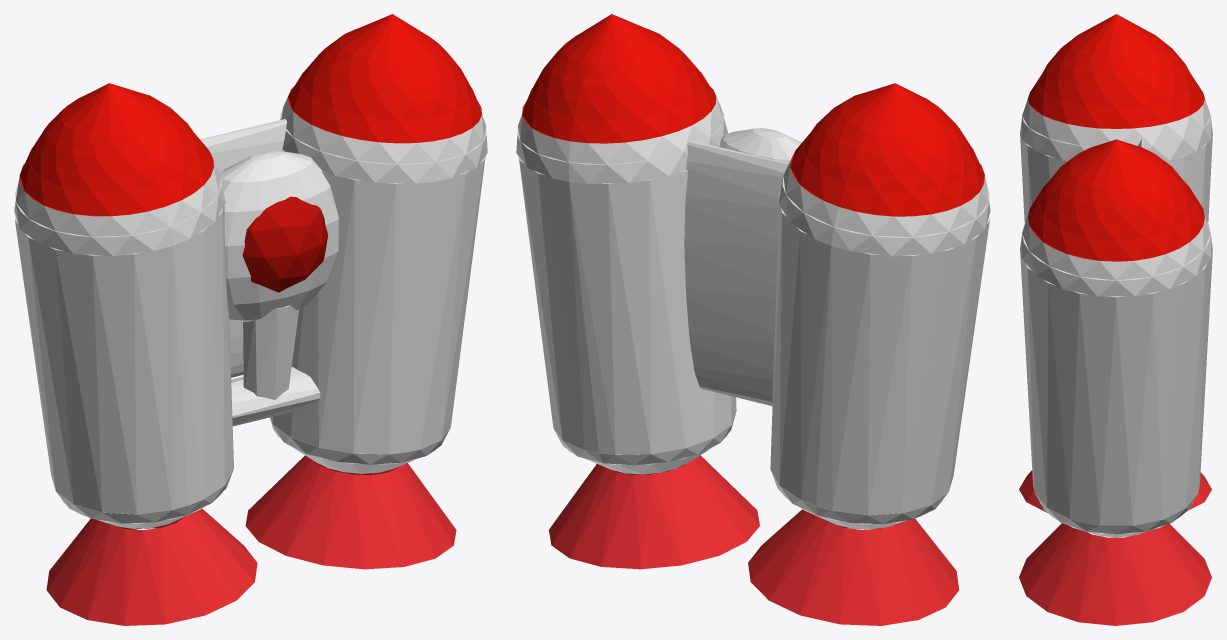
File: jetpack.fbx
The picture shows the model from 3 angles, left to right: view 1: azimuth 30°, elevation 25°; view 2: azimuth 150°, elevation 25°; view 3: azimuth 270°, elevation 25°; orthographic projection. The views are drawn at different scales.
Visible parts, largest first — view 1: Cylinder.005, Cylinder.001, Sphere, Icosphere, Cylinder.003, Cylinder.008, Cylinder.002; view 2: Cylinder.005, Cylinder.001, Cylinder.008, Sphere; view 3: Cylinder.001, Cylinder.005.
Boxes of the visible parts, left/top/right/bottom form: Cylinder.005: left=14, top=83, right=257, bottom=625; Cylinder.001: left=245, top=14, right=487, bottom=569; Sphere: left=220, top=150, right=338, bottom=321; Icosphere: left=242, top=196, right=328, bottom=292; Cylinder.003: left=243, top=305, right=299, bottom=399; Cylinder.008: left=200, top=119, right=286, bottom=377; Cylinder.002: left=231, top=367, right=320, bottom=426; Cylinder.005: left=748, top=83, right=990, bottom=625; Cylinder.001: left=516, top=14, right=759, bottom=569; Cylinder.008: left=684, top=140, right=788, bottom=405; Sphere: left=719, top=128, right=801, bottom=163; Cylinder.001: left=1019, top=139, right=1212, bottom=625; Cylinder.005: left=1019, top=14, right=1212, bottom=512.
Size of the model in its own units: 484 by 531 by 201.
